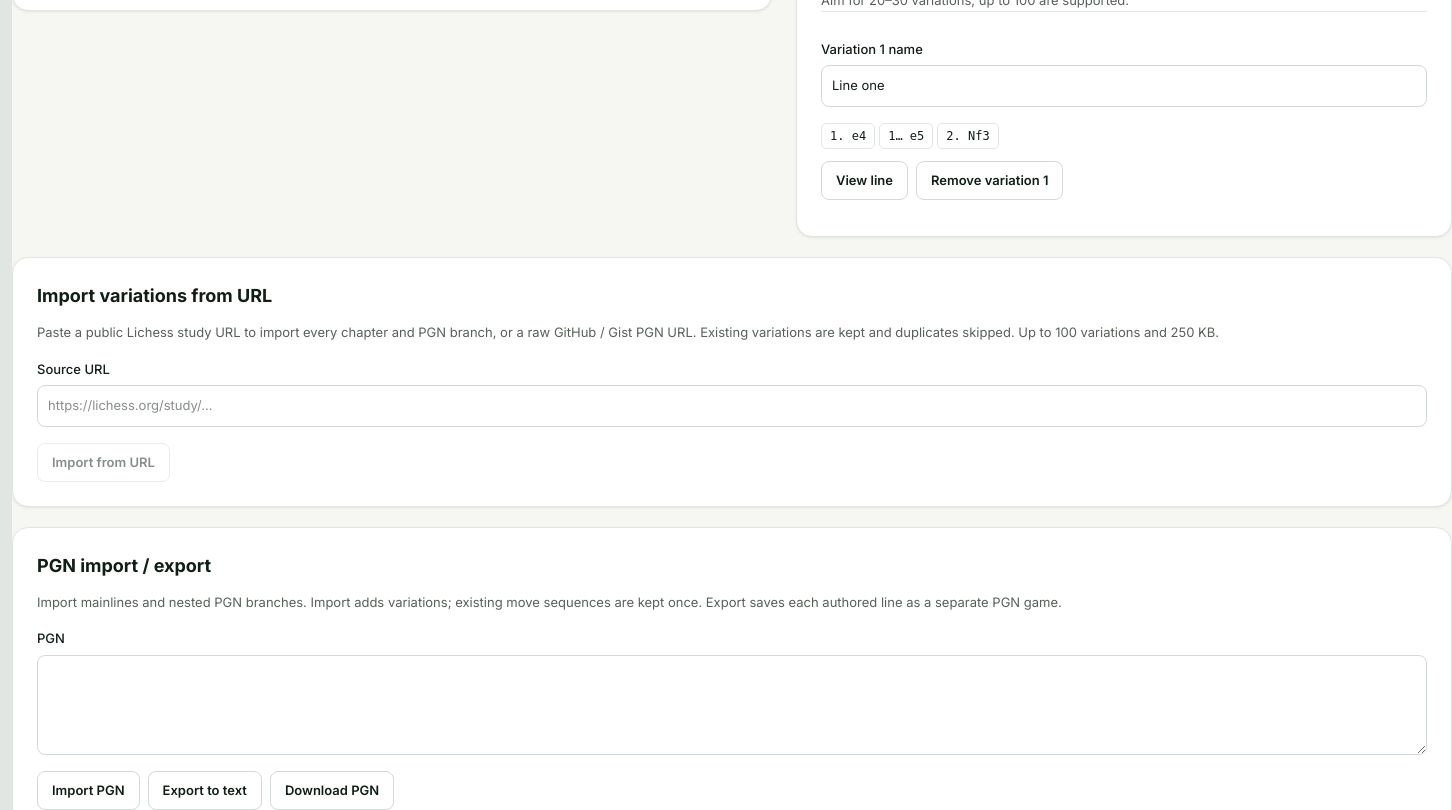
it: imports URL variations, skips duplicates, and saves the merged opening
(page scrolled)
Type "https://lichess.org/study/abcdefgh" into the field labelled "Source URL". click: (732,406)
box: top-left (37, 385), bottom-right (1427, 427)
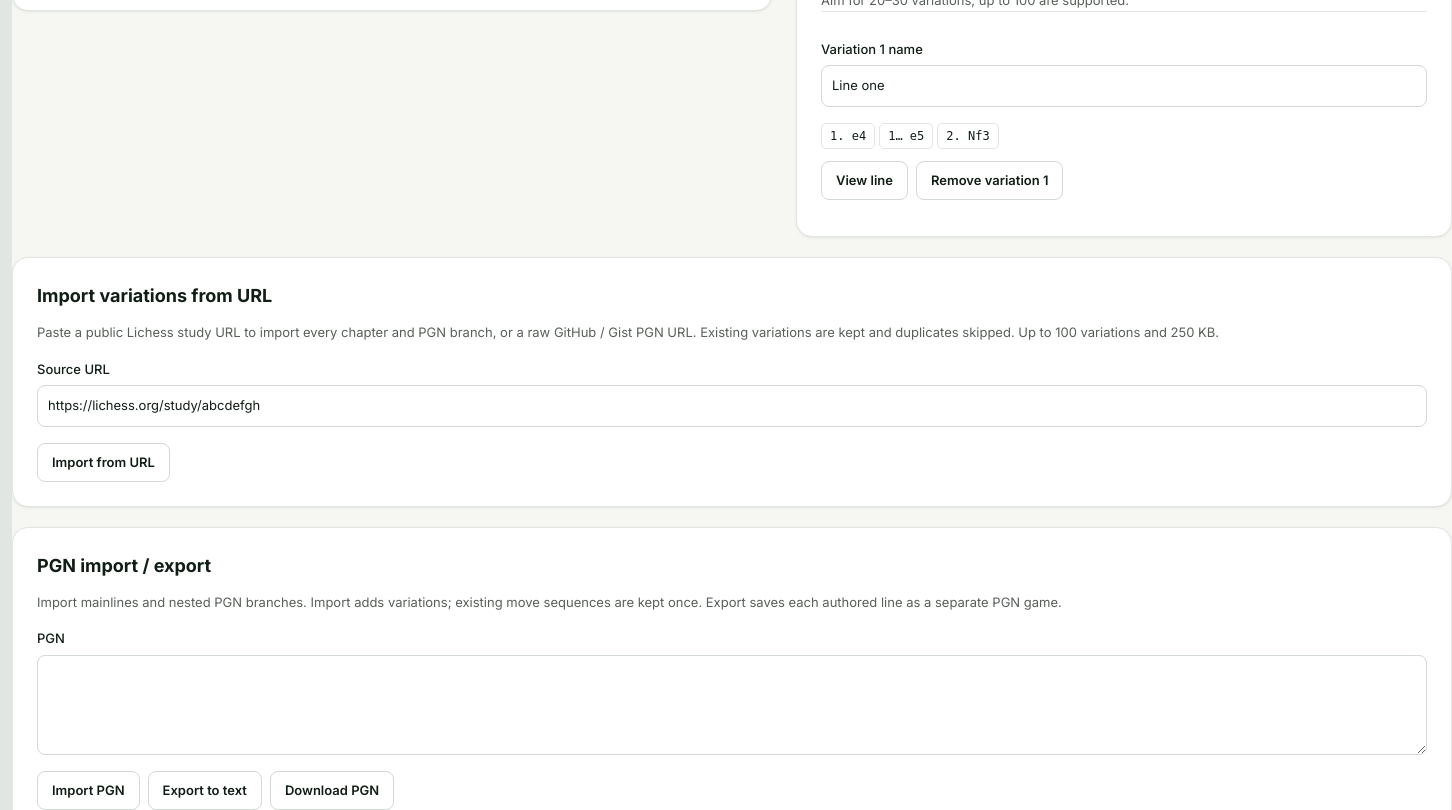
Click the button "Import from URL". click: (103,462)
box: top-left (37, 443), bottom-right (170, 482)
(page scrolled)
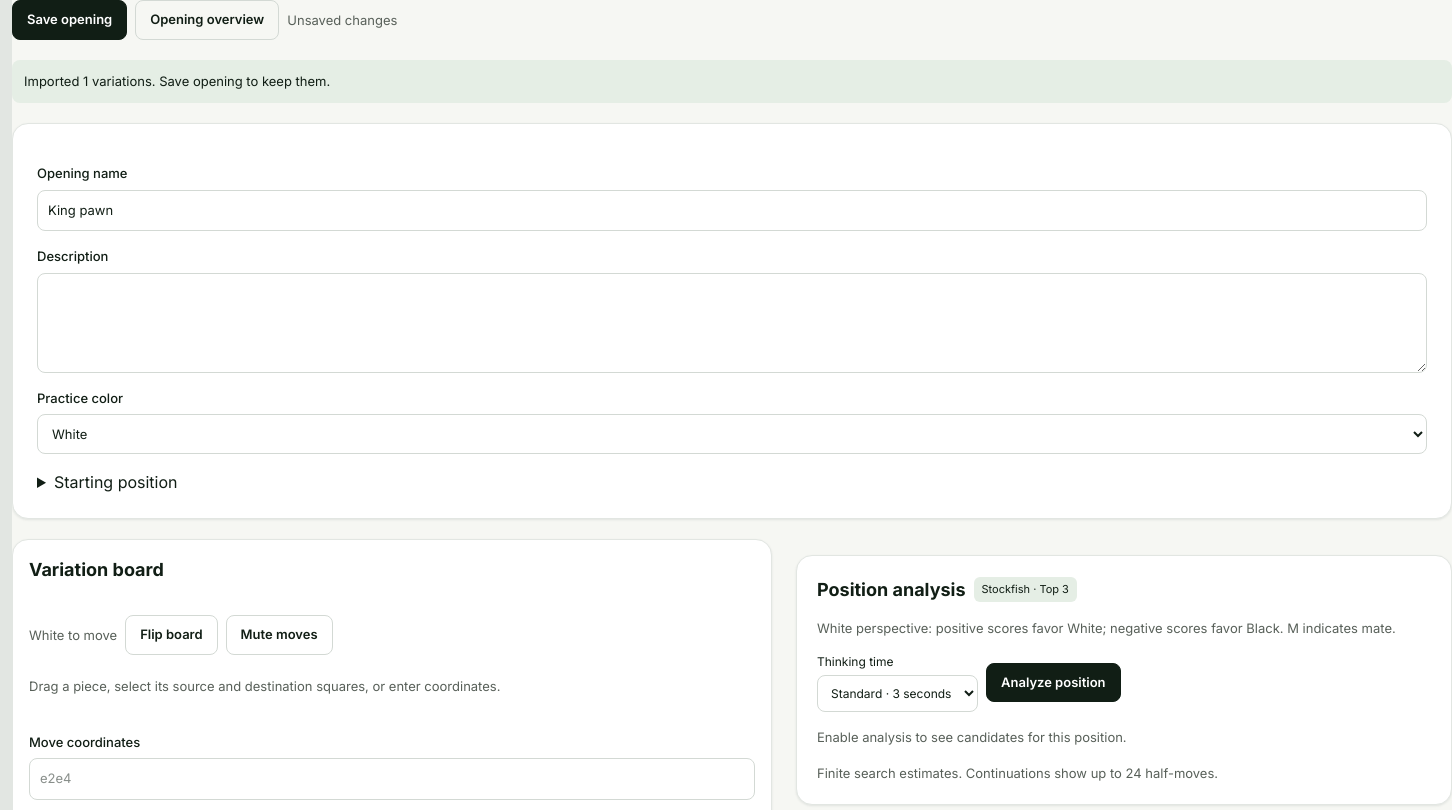
Expected: the text "Imported 1 variations. Save opening to keep them." is shown, top-left (12, 60), bottom-right (1451, 103)
Click the button "Save opening". click: (70,20)
box: top-left (12, 0), bottom-right (127, 40)
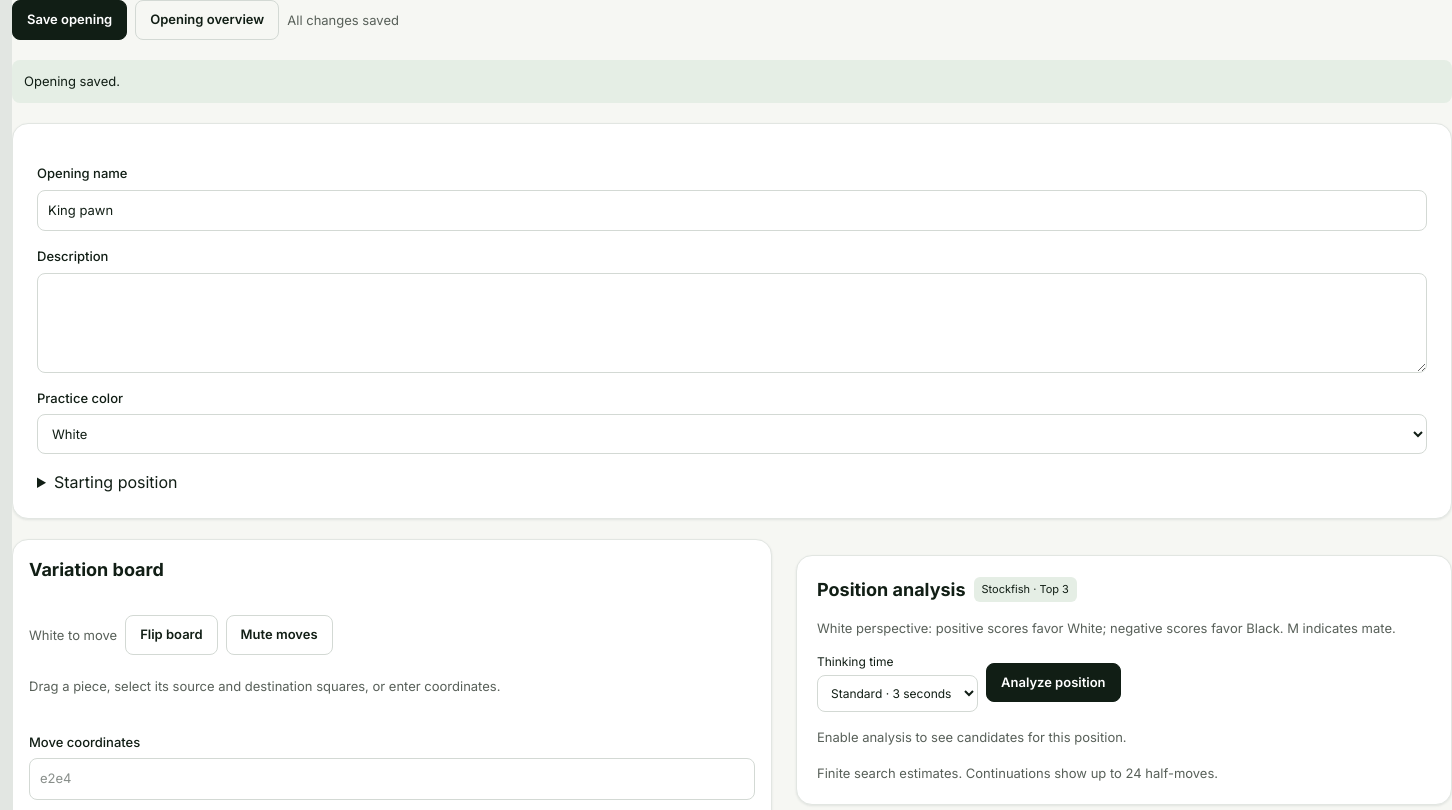
Expected: the text "Opening saved." is shown, top-left (12, 60), bottom-right (1451, 103)
